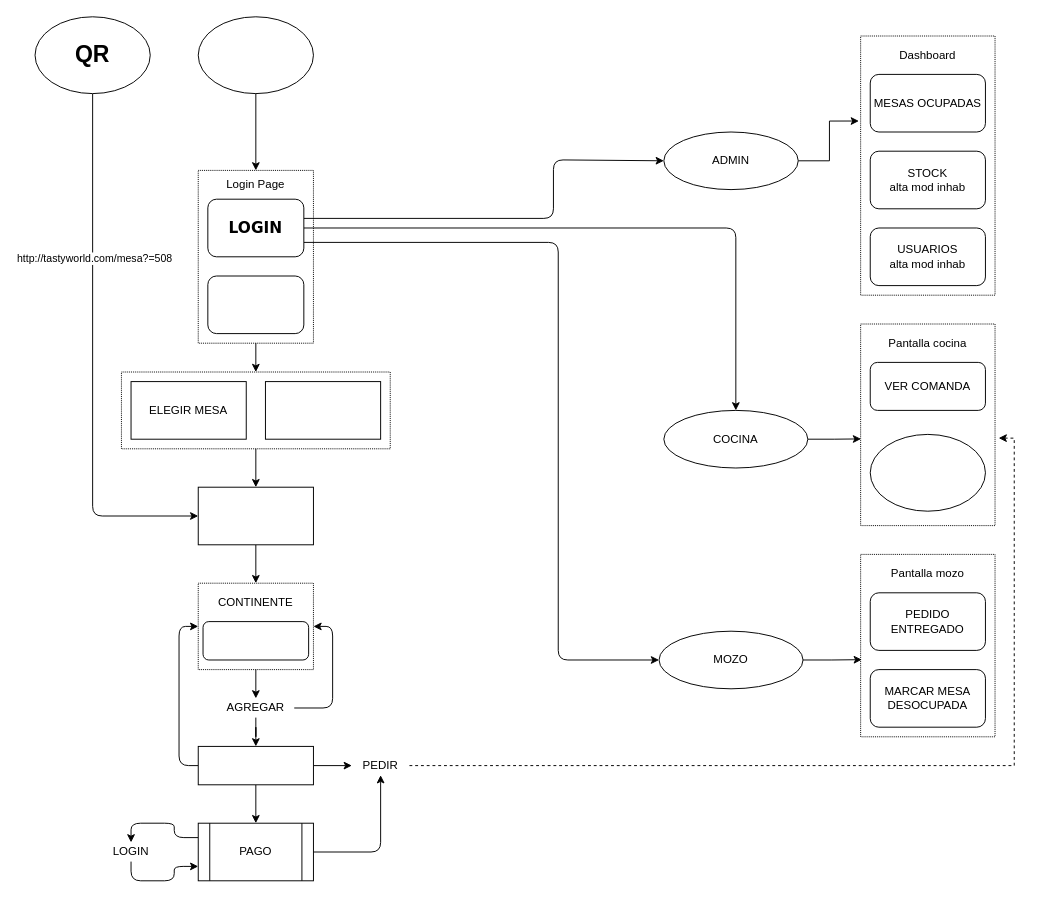
The diagram is 1039 pixels wide and 905 high, and some of its shapes have lost their labels. Each missing label, with the box of its shape:
CARDS COMIDA: (202, 621, 309, 660)
CARDS CONTINENTES: (197, 486, 313, 545)
CARRITO: (197, 745, 313, 785)
MARCAR REALIZADO / RECHAZADO: (869, 433, 985, 511)
TAKE AWAY: (264, 381, 381, 439)
VER MENU (ORDEN DESH): (207, 275, 304, 334)
www.tasteworld.com: (197, 16, 313, 94)
